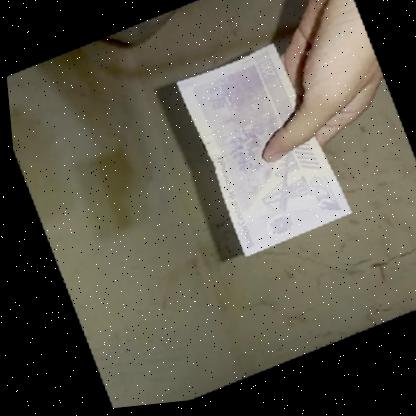two_hundred-back-vef: (168, 36, 354, 270)
